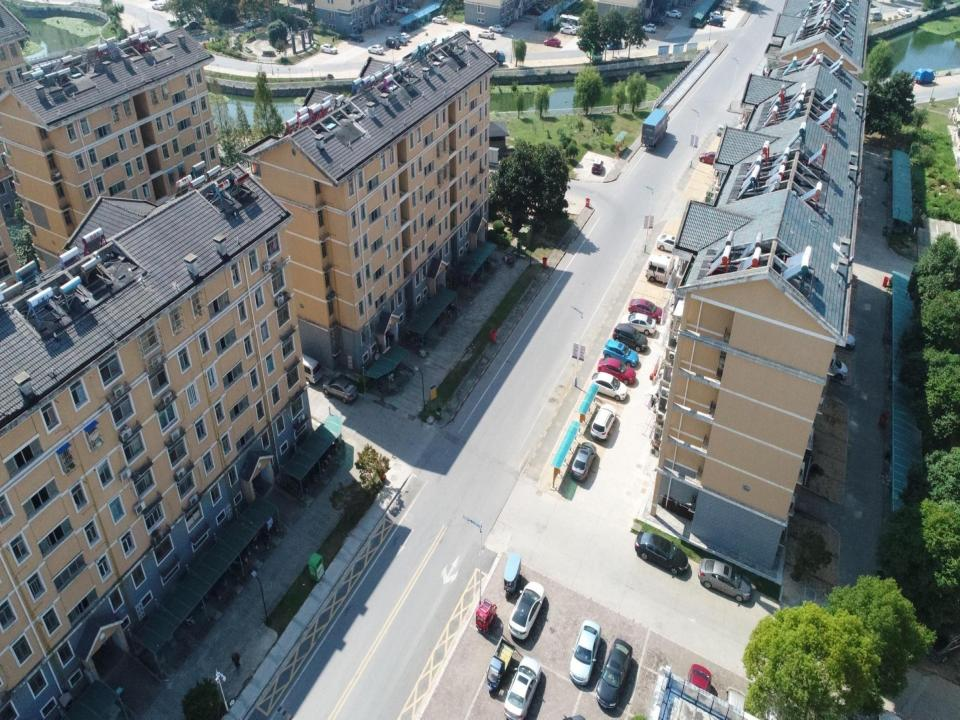bus: (639, 106, 670, 148), (583, 32, 604, 62), (558, 13, 584, 33)
car: (594, 636, 633, 714), (698, 556, 753, 604), (634, 529, 689, 576), (503, 656, 541, 719), (568, 618, 601, 688), (508, 580, 545, 640), (679, 664, 711, 720), (924, 623, 959, 664), (812, 319, 856, 351), (597, 356, 637, 386), (810, 351, 848, 382), (590, 370, 628, 400), (612, 322, 648, 353), (602, 338, 640, 367), (570, 441, 596, 483), (590, 402, 617, 442), (322, 375, 359, 404), (830, 178, 863, 208), (628, 297, 664, 324), (824, 707, 904, 719), (620, 311, 656, 336), (655, 233, 687, 253), (698, 150, 725, 164), (590, 156, 603, 176), (715, 124, 735, 137), (318, 42, 338, 55), (385, 34, 401, 50), (605, 37, 623, 51), (345, 31, 365, 43), (708, 10, 727, 22), (182, 19, 201, 31), (640, 21, 657, 34), (664, 8, 682, 20), (431, 13, 449, 25), (392, 4, 410, 16), (368, 44, 386, 56), (543, 714, 586, 719), (559, 24, 577, 35), (543, 36, 561, 47), (477, 29, 495, 40), (531, 1, 549, 12), (246, 18, 264, 29), (488, 23, 505, 34), (896, 6, 913, 17), (710, 16, 724, 28), (395, 30, 411, 40), (392, 36, 408, 46), (528, 5, 542, 16), (151, 1, 165, 10)
truck: (472, 48, 506, 67), (913, 68, 936, 84), (718, 0, 734, 12)
van: (645, 251, 694, 284), (290, 350, 323, 385), (722, 685, 748, 719), (869, 10, 883, 22)
